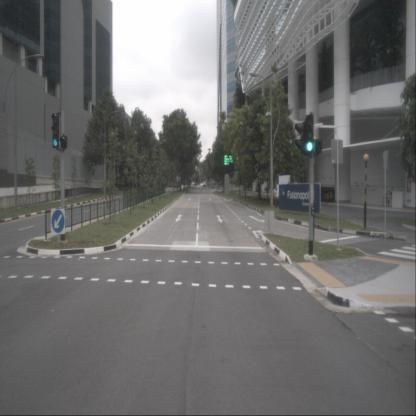vehicle-bicycle: (382, 187, 395, 208), (324, 186, 335, 204)
